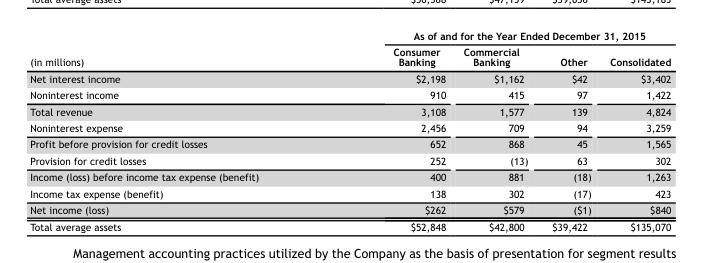table: (29, 29, 670, 231)
table column: (29, 29, 325, 231), (325, 29, 454, 231), (454, 29, 539, 231), (599, 29, 670, 231), (539, 29, 599, 231)
table column header: (29, 29, 670, 69)
table row: (29, 43, 670, 69), (29, 69, 670, 86), (29, 102, 670, 119), (29, 135, 670, 152), (29, 184, 670, 201), (29, 86, 670, 102), (29, 119, 670, 135), (29, 152, 670, 168), (29, 168, 670, 184), (29, 201, 670, 217), (29, 29, 670, 43), (29, 217, 670, 231)
table spanning cell: (29, 29, 325, 69), (325, 29, 670, 43)
